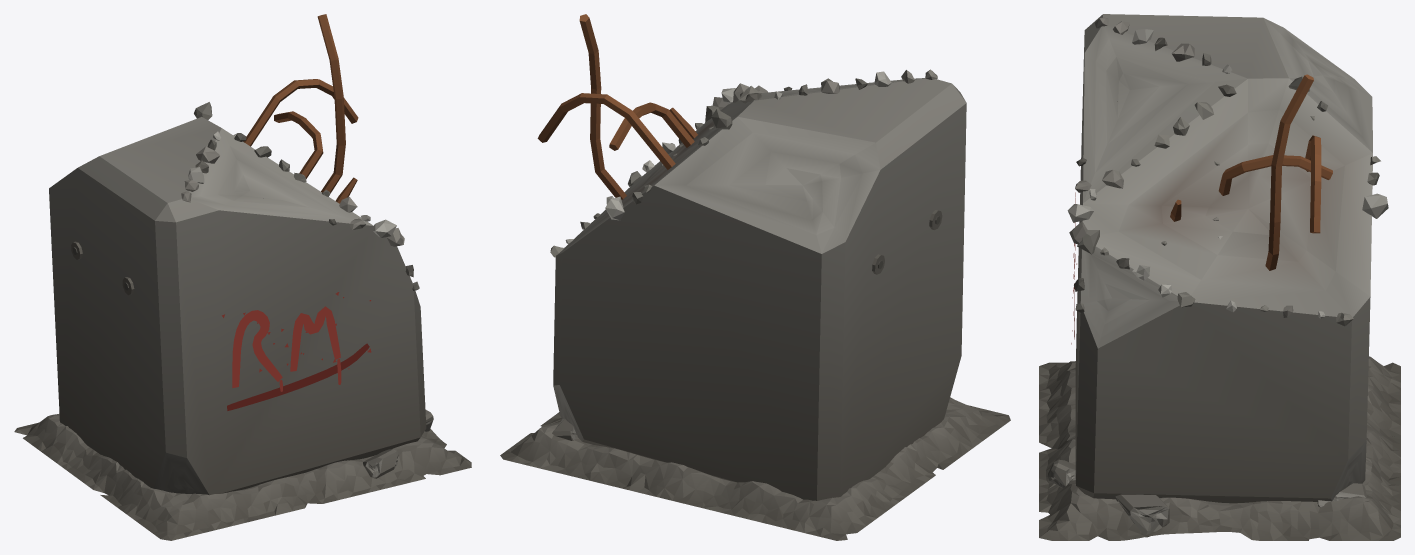
Rendered from concrete_chunk.glb.
3 views of the same model, side by side, from view 1: azimuth 30°, elevation 25°; view 2: azimuth 150°, elevation 25°; view 3: azimuth 270°, elevation 25° (orthographic). The views are drawn at different scales.
Parts seen in each view (by area): view 1: concrete_chunk; view 2: concrete_chunk; view 3: concrete_chunk.
Boxes of the visible parts, x1=… form: concrete_chunk: x1=14, y1=14, x2=471, y2=540; concrete_chunk: x1=500, y1=14, x2=1010, y2=540; concrete_chunk: x1=1039, y1=14, x2=1400, y2=540.
Size of the model in its own units: 0.7 by 0.8151 by 0.6.
